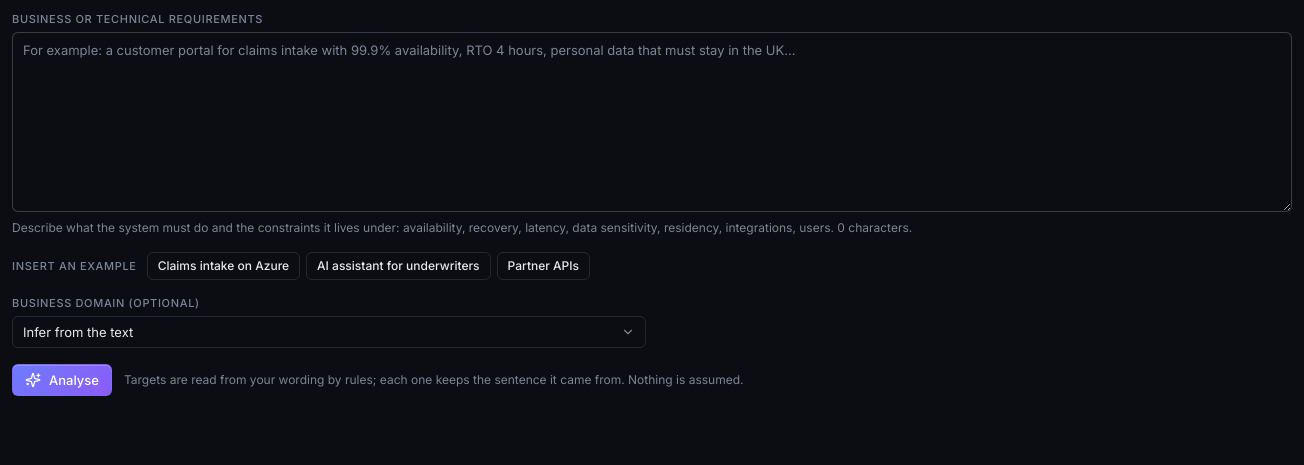
Test: the requirements form › refuses text that is too short without sending anything
Replace the text in the text box labelled "Business or technical requirements" with "too short" at (652, 122), box top-left (12, 32), bottom-right (1292, 212)
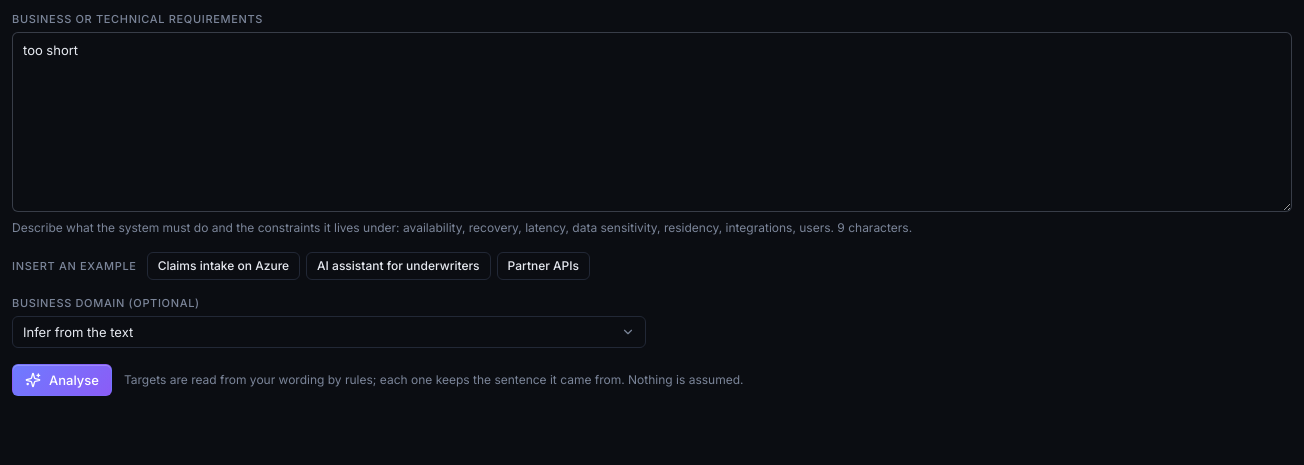
Click the button "Analyse" at (62, 380), box top-left (12, 364), bottom-right (112, 396)
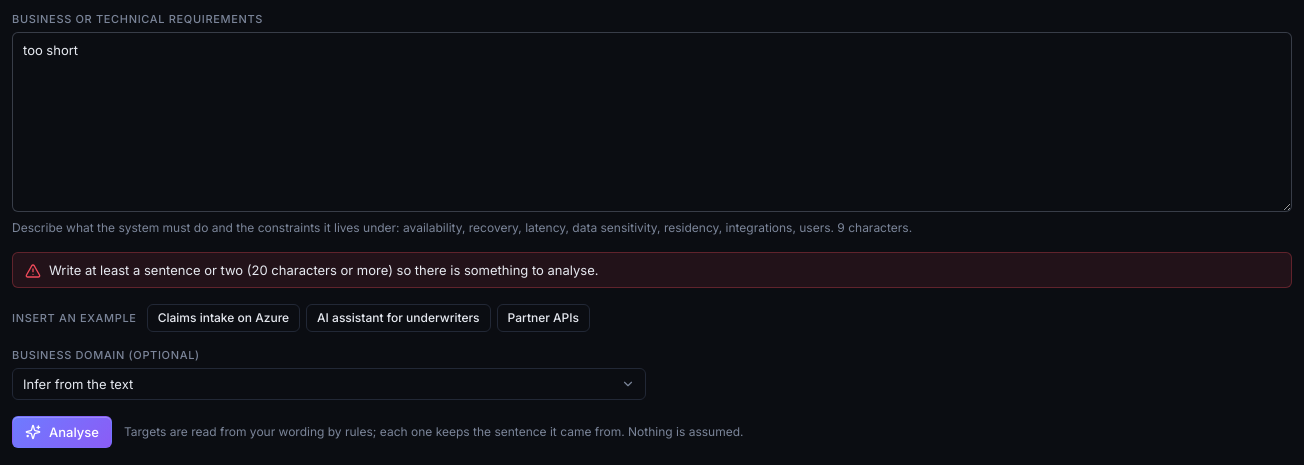
expect the message shows "at least a sentence": met, box top-left (49, 262), bottom-right (252, 278)
